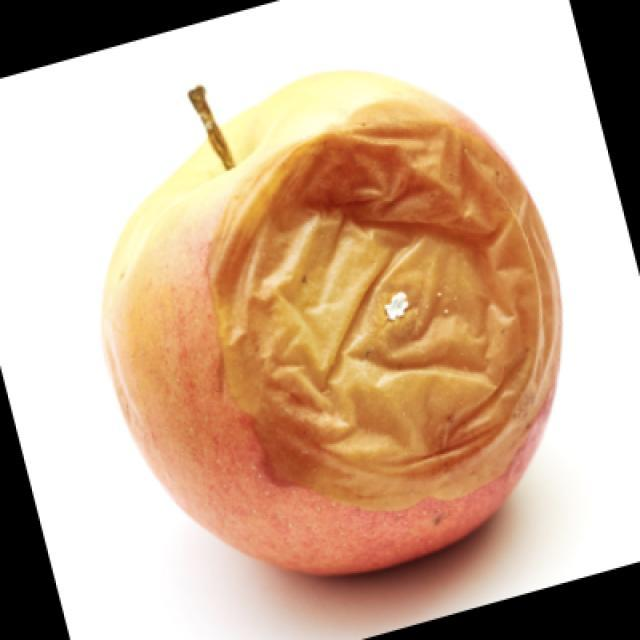Rotten: (113, 104, 547, 574)
